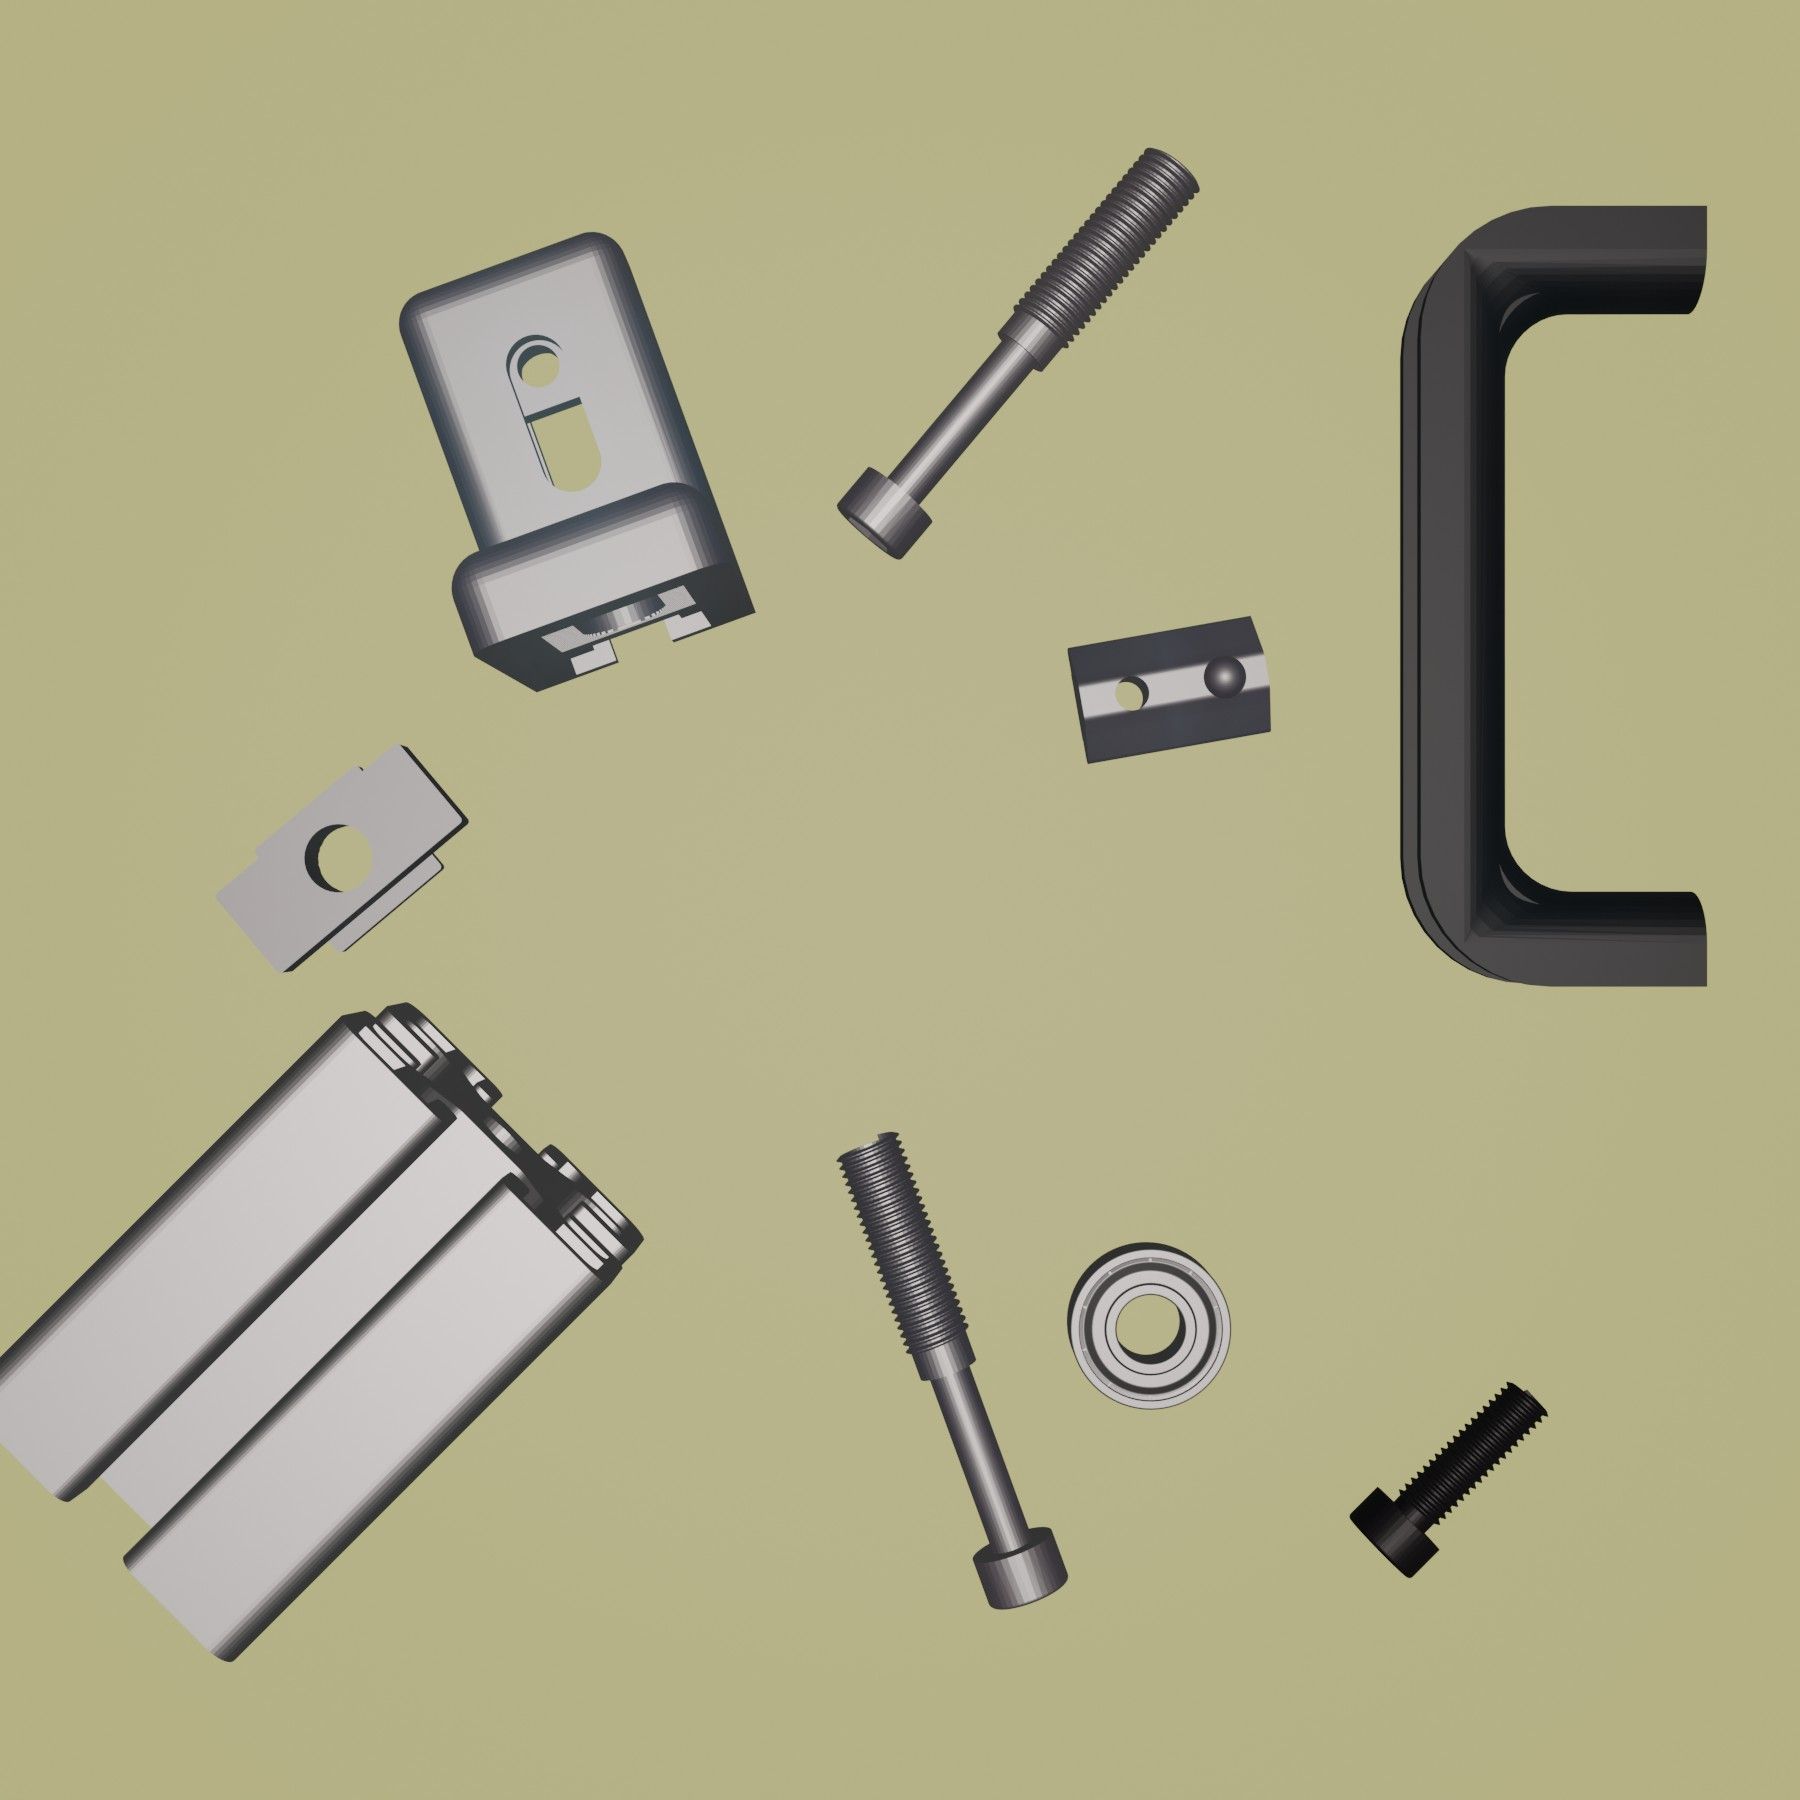Aluminium Extension: (2, 997, 648, 1666)
Ball Bearing: (1062, 1240, 1233, 1411)
Multiwinkel: (397, 231, 758, 696)
Pull Handle: (1395, 199, 1709, 996)
Shoulder Socket Head Cap Screw: (836, 145, 1202, 564), (832, 1126, 1071, 1610)
Socket Head Cap Screw: (1350, 1376, 1546, 1581)
T Nut Square: (213, 742, 470, 976)
T Spring Nut: (1065, 612, 1274, 768)
